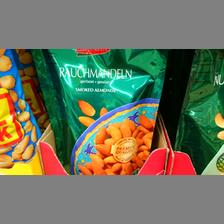Nuss: (28, 49, 168, 173)
